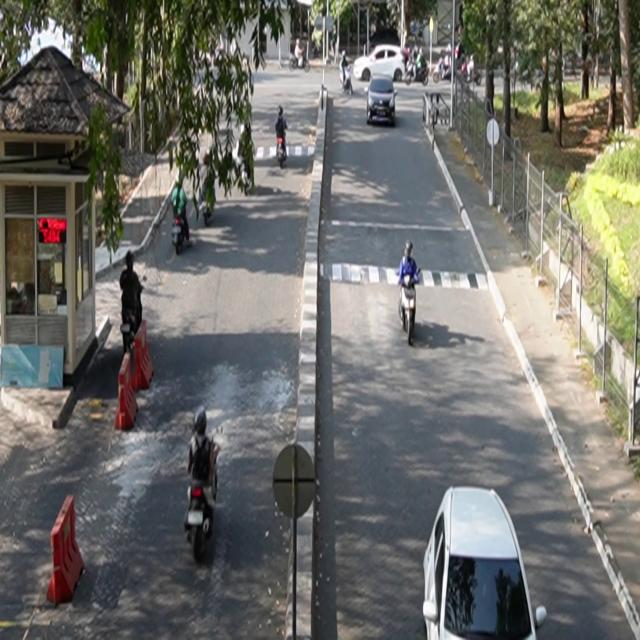car: (423, 487, 548, 640), (354, 45, 407, 83), (367, 76, 399, 127)
